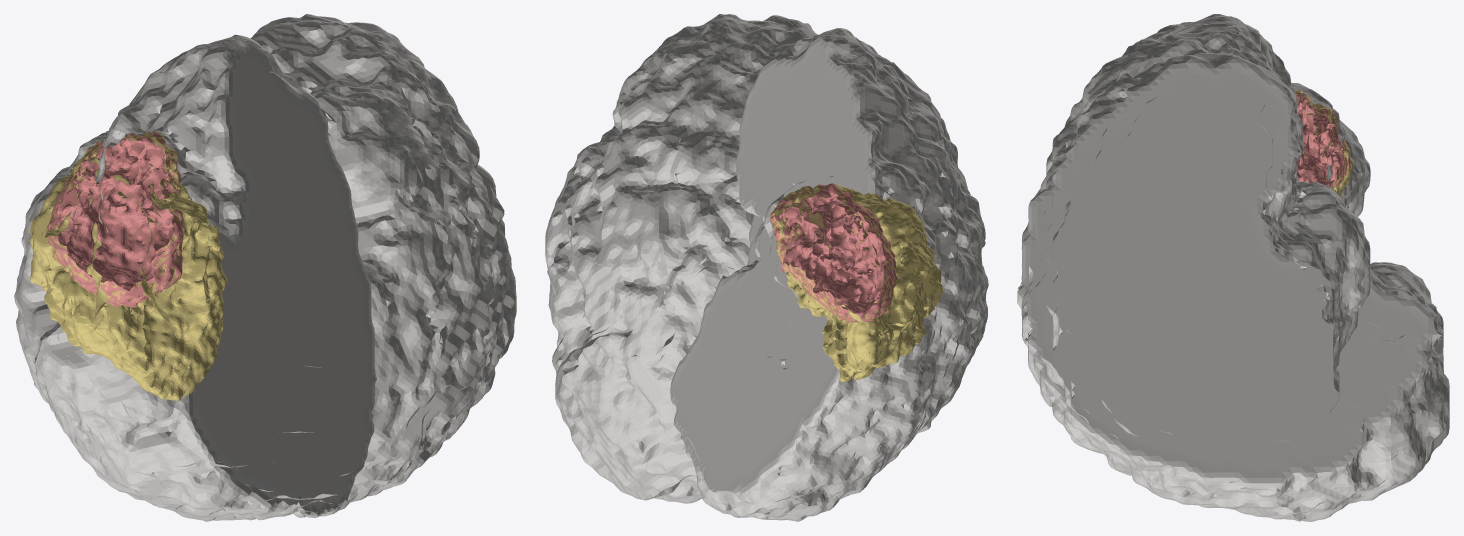
3 views of the same model, side by side, from view 1: azimuth 30°, elevation 25°; view 2: azimuth 150°, elevation 25°; view 3: azimuth 270°, elevation 25° (orthographic). The views are drawn at different scales.
Visible parts, largest first — view 1: brain_left, brain_right, edema, enhancing, core; view 2: brain_left, brain_right, edema, enhancing, core; view 3: brain_right, brain_left, enhancing, core, edema.
Boxes of the visible parts, box(x1,y1,x2,y2) form: brain_left: box(14, 34, 376, 521); brain_right: box(251, 14, 516, 516); edema: box(29, 131, 227, 400); enhancing: box(47, 131, 183, 307); core: box(45, 132, 183, 307); brain_left: box(670, 28, 988, 521); brain_right: box(545, 14, 818, 503); edema: box(770, 183, 942, 382); enhancing: box(770, 183, 897, 322); core: box(770, 183, 897, 322); brain_right: box(1017, 53, 1449, 521); brain_left: box(1017, 14, 1443, 364); enhancing: box(1296, 91, 1349, 189); core: box(1296, 90, 1350, 191); edema: box(1295, 90, 1353, 197).
Bounding box in the file's own units: 150 × 164 × 142.
